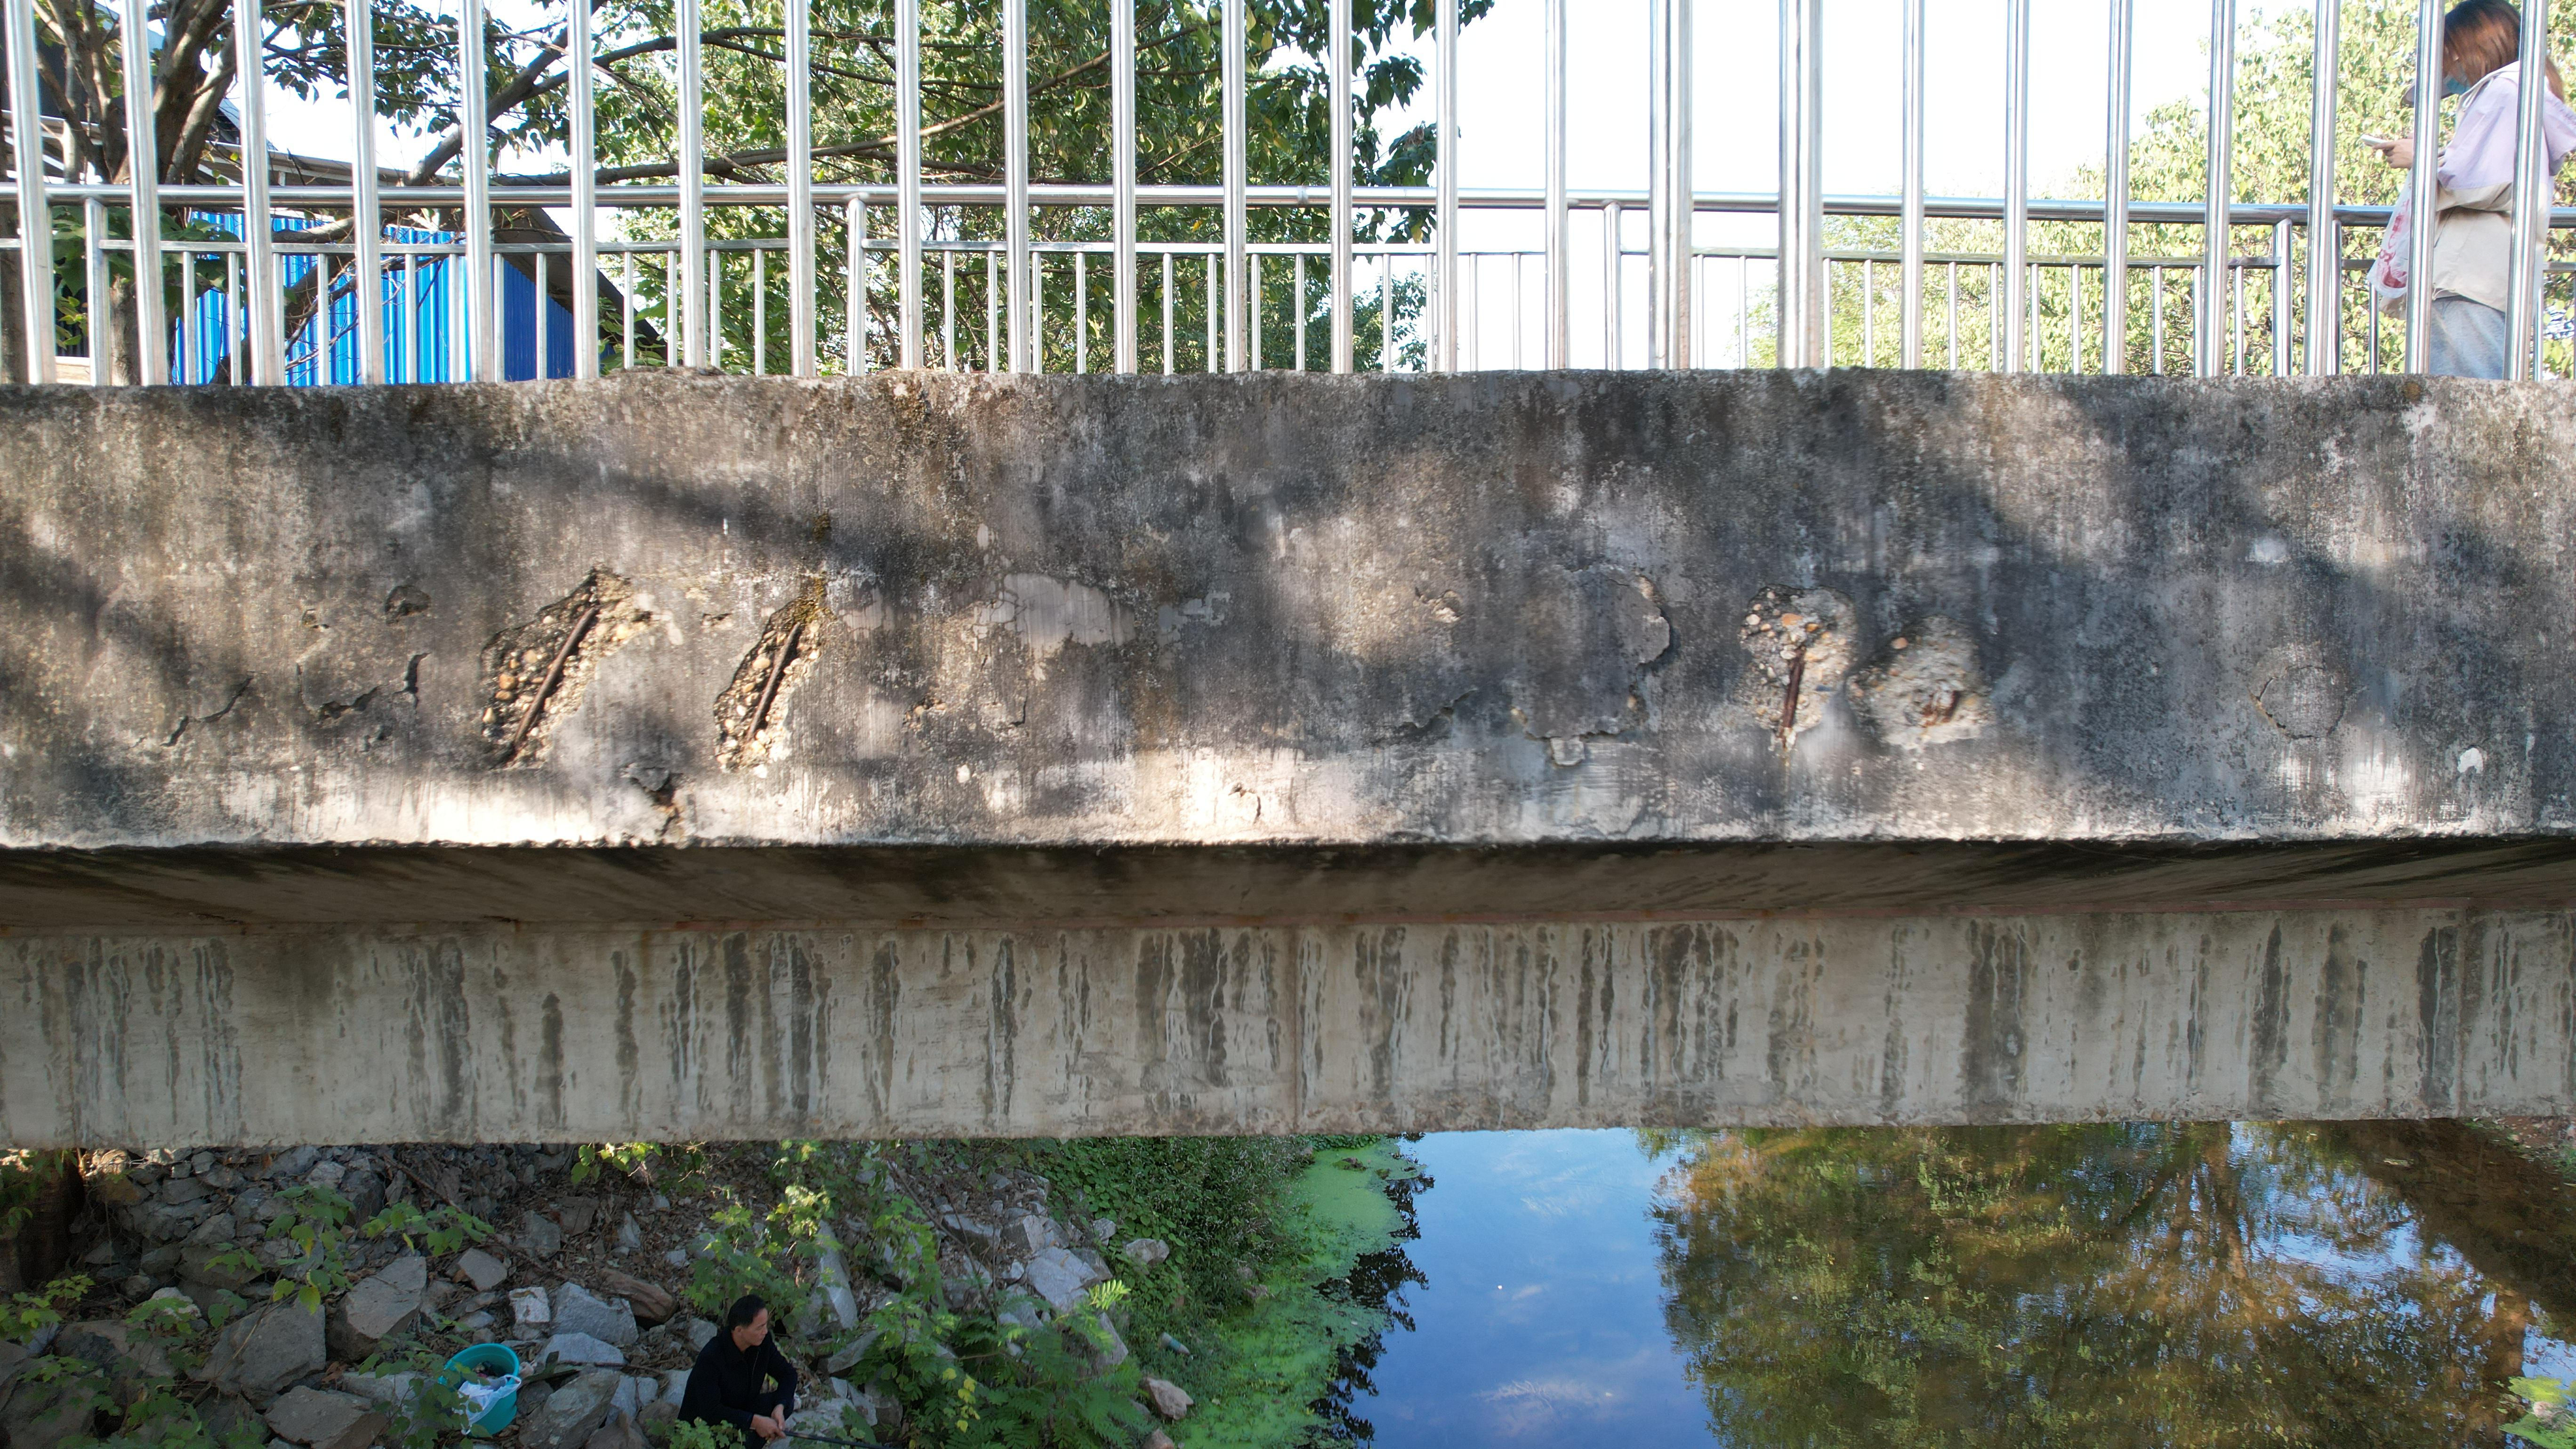rebar: (510, 607, 596, 754), (747, 621, 800, 745), (1783, 649, 1806, 743), (179, 908, 246, 925), (1943, 686, 1960, 722), (479, 911, 524, 925), (1925, 692, 1941, 727), (660, 789, 672, 807)
separation: (1506, 561, 1674, 771), (81, 573, 255, 755), (294, 586, 437, 755), (1350, 580, 1481, 750), (2247, 646, 2350, 740), (623, 763, 704, 840), (982, 644, 1030, 731), (1223, 782, 1263, 824)
spall: (476, 566, 660, 777), (1732, 582, 1863, 754), (713, 594, 832, 777), (1842, 612, 1994, 750), (904, 695, 950, 731)
